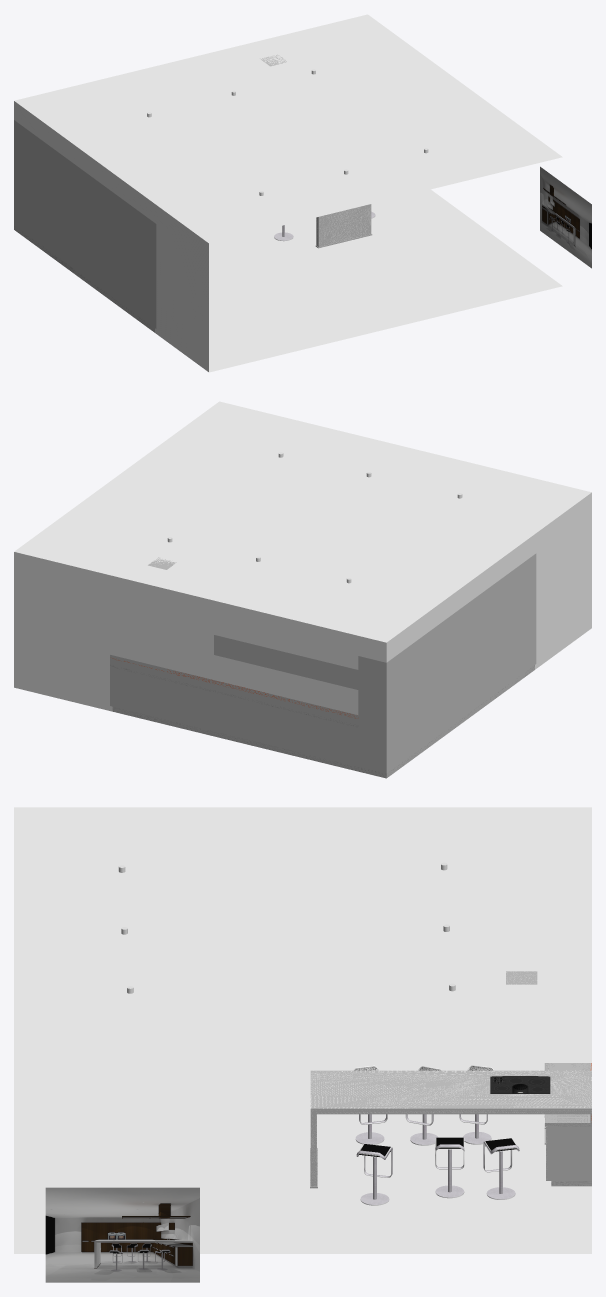
Rendered from dada.dae.
The picture shows the model from 3 angles, top to bottom: view 1: azimuth 30°, elevation 25°; view 2: azimuth 150°, elevation 25°; view 3: azimuth 270°, elevation 25°; orthographic projection. The views are drawn at different scales.
Parts seen in each view (by area): view 1: Model, Group3; view 2: Model; view 3: Model, Group3, ske1084.
Boxes of the visible parts, bbox=[...] form: Model: bbox=[14, 14, 562, 372]; Group3: bbox=[540, 166, 591, 268]; Model: bbox=[14, 401, 591, 778]; Model: bbox=[14, 807, 591, 1253]; Group3: bbox=[45, 1187, 199, 1282]; ske1084: bbox=[490, 1076, 550, 1093].
Size of the model in its own units: 8619 by 7400 by 2770.
